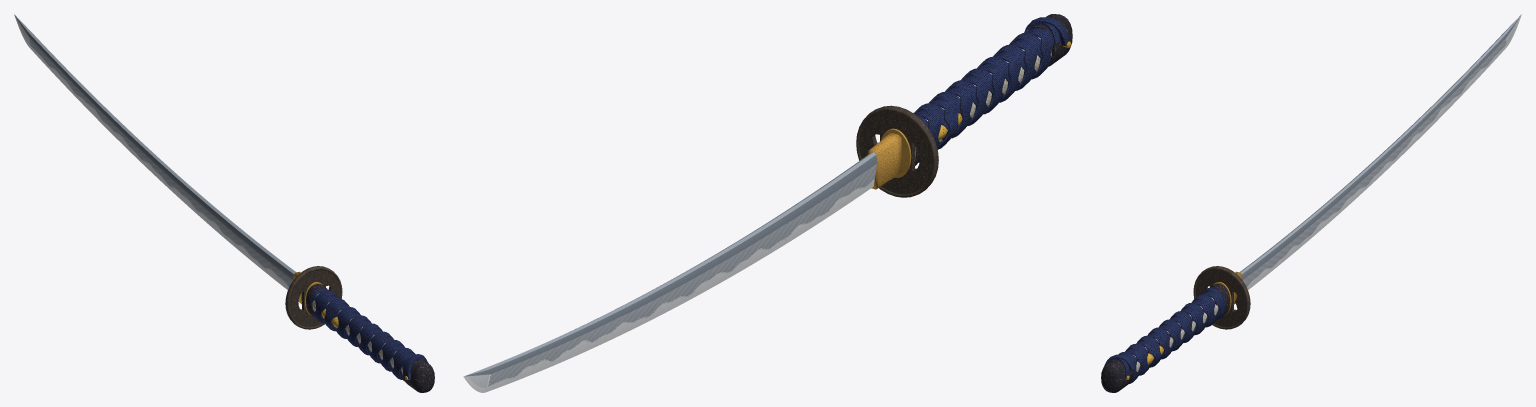
Rendered from w_katana.glb.
3 views of the same model, side by side, from view 1: azimuth 30°, elevation 25°; view 2: azimuth 150°, elevation 25°; view 3: azimuth 330°, elevation 25° (orthographic). The views are drawn at different scales.
Parts seen in each view (by area): view 1: kat_blade_wzB, kat_tsuka_wzA, kat_guard_wzB; view 2: kat_blade_wzB, kat_tsuka_wzA, kat_guard_wzB; view 3: kat_blade_wzB, kat_tsuka_wzA, kat_guard_wzB.
Boxes of the visible parts, x1=… form: kat_blade_wzB: x1=14, y1=14, x2=296, y2=289; kat_tsuka_wzA: x1=306, y1=284, x2=434, y2=392; kat_guard_wzB: x1=285, y1=266, x2=342, y2=329; kat_blade_wzB: x1=463, y1=152, x2=877, y2=392; kat_tsuka_wzA: x1=913, y1=14, x2=1072, y2=165; kat_guard_wzB: x1=856, y1=105, x2=938, y2=197; kat_blade_wzB: x1=1239, y1=14, x2=1521, y2=289; kat_tsuka_wzA: x1=1101, y1=284, x2=1229, y2=392; kat_guard_wzB: x1=1193, y1=266, x2=1250, y2=329.
Bounding box in the file's own units: 0.0748 × 0.1224 × 0.9663.
10 materials, 10 textured.
